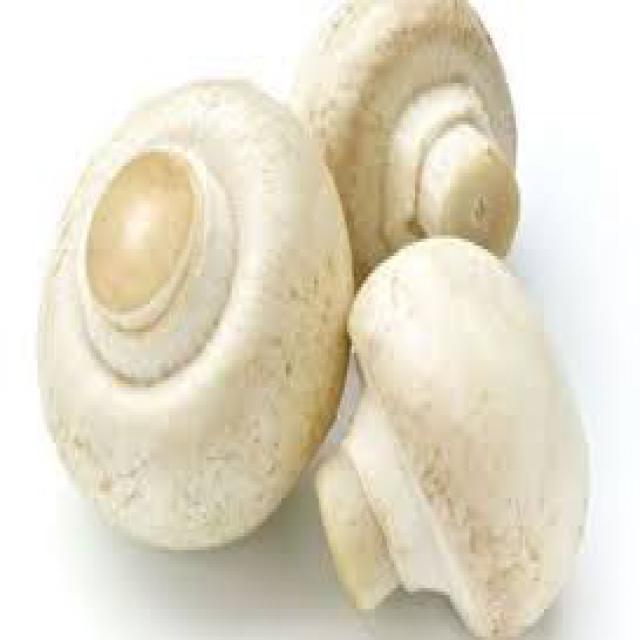Agaricus bisporus: (40, 75, 352, 548), (315, 240, 594, 634), (285, 3, 540, 256)
